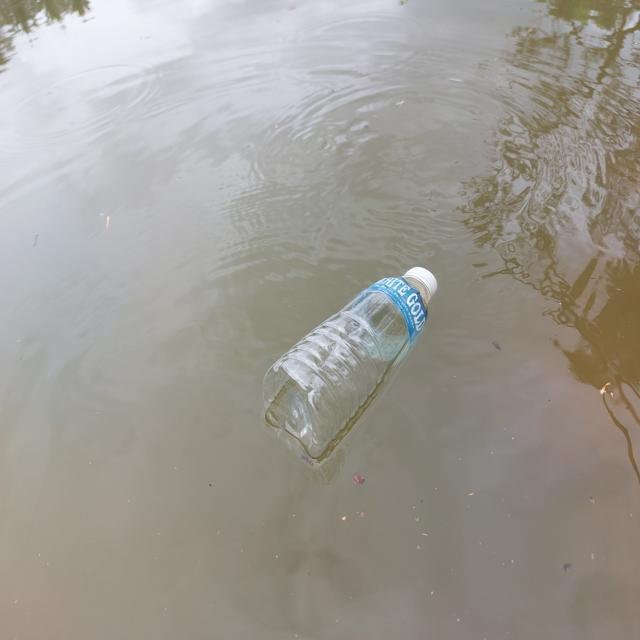waterbottle: (253, 255, 439, 462)
